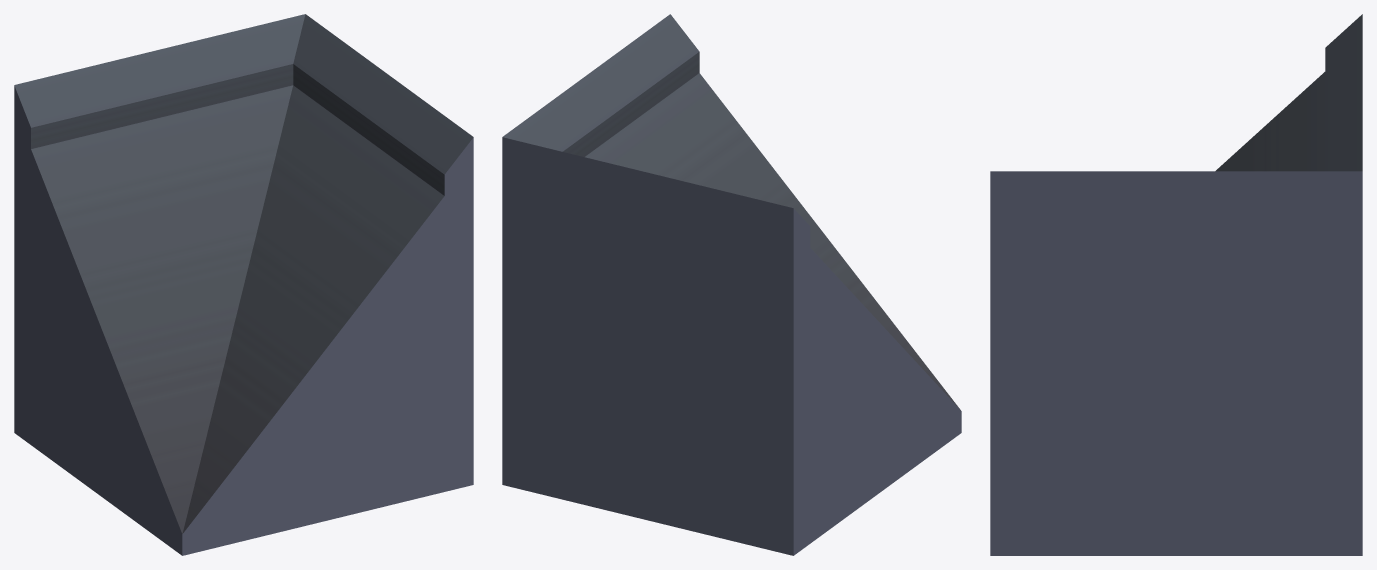
The model's file is roof-high-cornerinner.glb.
The picture shows the model from 3 angles, left to right: view 1: azimuth 30°, elevation 25°; view 2: azimuth 150°, elevation 25°; view 3: azimuth 270°, elevation 25°; orthographic projection. The views are drawn at different scales.
Visible parts, largest first — view 1: roof-high-cornerinner; view 2: roof-high-cornerinner; view 3: roof-high-cornerinner.
Part boxes in pixels (bbox=[...]): roof-high-cornerinner: bbox=[14, 14, 473, 555]; roof-high-cornerinner: bbox=[502, 14, 961, 555]; roof-high-cornerinner: bbox=[990, 14, 1362, 555].
Size of the model in its own units: 1 by 1.14 by 1.
1 material, 1 textured.
